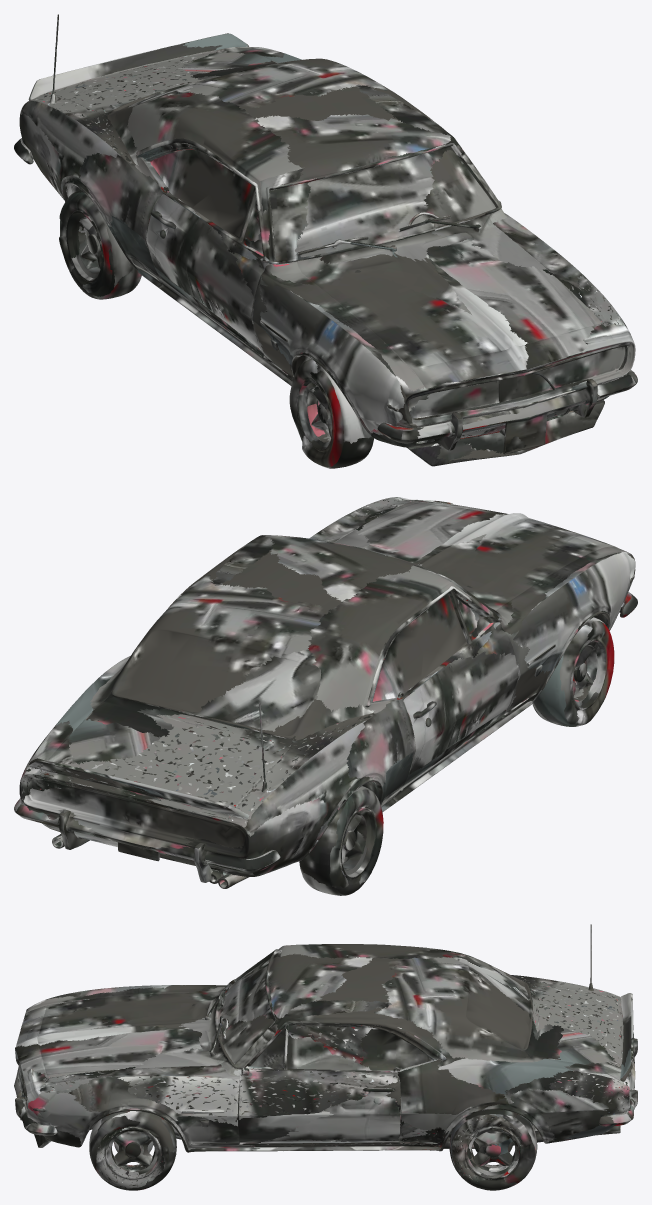
File: Car.glb
3 views of the same model, one above another, from view 1: azimuth 30°, elevation 25°; view 2: azimuth 150°, elevation 25°; view 3: azimuth 270°, elevation 25° (orthographic). The views are drawn at different scales.
Parts seen in each view (by area): view 1: node_0; view 2: node_0; view 3: node_0.
Boxes of the visible parts, x1,y1,x2,y2 form: node_0: (14, 14, 637, 468); node_0: (14, 497, 637, 895); node_0: (14, 924, 637, 1190).
Size of the model in its own units: 0.4709 by 0.3646 by 1.15.
1 material, 1 textured.
